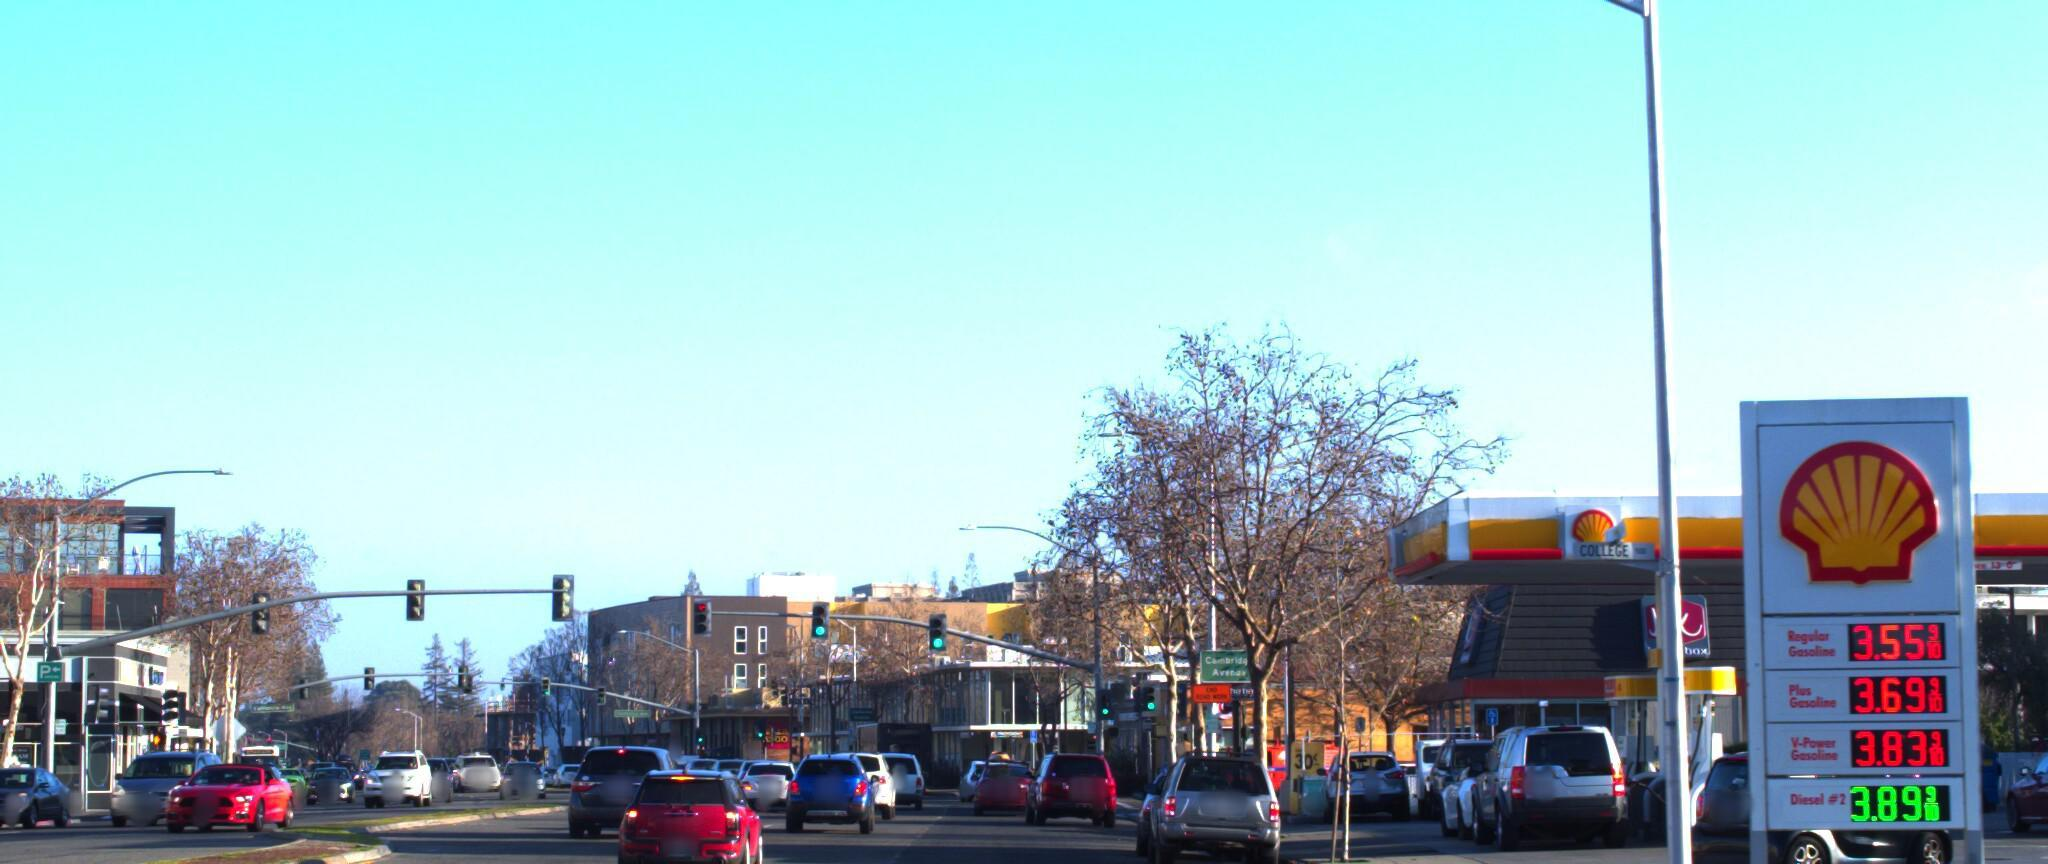car: (1656, 726, 1960, 864), (1445, 703, 1629, 837), (1131, 730, 1287, 859), (605, 749, 775, 864), (552, 726, 696, 835), (1415, 735, 1576, 824), (163, 737, 312, 814), (1293, 728, 1405, 801), (782, 733, 876, 814), (1971, 730, 2048, 826), (1020, 737, 1115, 807), (969, 732, 1045, 804)
